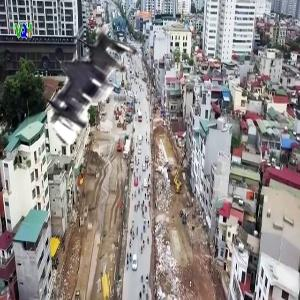drone: (14, 3, 170, 159)
